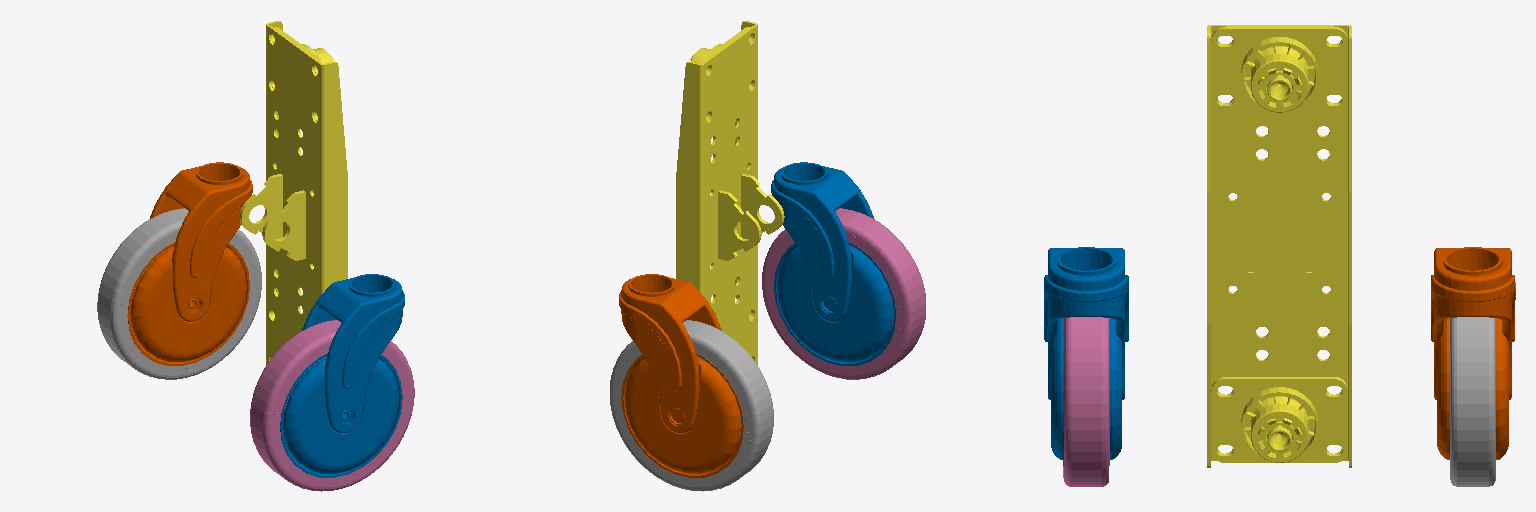
robot.urdf — carter v2:
<?xml version="1.0" encoding="UTF-8"?>
<robot name="carter v2">
   <link name="chassis_link">
      <visual>
         <origin rpy="0 0 0" xyz="0 0 0" />
         <geometry>
            <mesh filename="package://carter v2/meshes/chassis_link.obj" scale="0.01 0.01 0.01"/>
         </geometry>
      </visual>
      <collision>
         <origin rpy="0 0 0" xyz="-0.232 0.000000 0.27" />
         <geometry>
            <box size=".7 .336 .3"/>
         </geometry>
      </collision>
      <inertial>
         <origin rpy="0 0 0" xyz="-0.23.2 0.000000 0.27" />
         <mass value="45.88" />
         <inertia ixx="1.182744" ixy="0.017957" ixz="-0.077476" iyx="0.017957" iyy="0.538664" iyz="0.000018" izx="-0.077476" izy="0.000018" izz="1.240229"/>
      </inertial>
   </link>
   <link name="left_wheel_link">
      <visual>
         <origin rpy="0 0 -1.5707963267948966" xyz="0 0 0" />
         <geometry>
            <mesh filename="package://carter v2/meshes/wheel_link.obj" scale="0.01 0.01 0.01" />
         </geometry>
      </visual>
      <collision>
         <origin rpy="1.5707963267948966 -1.5707963267948966 0" xyz="0 0 0" />
         <geometry>
            <cylinder length = "0.055" radius = "0.1350"/>
         </geometry>
      </collision>
      <inertial>
         <origin rpy="0 0 0" xyz="0 0 0" />
         <mass value="4.195729" />
         <inertia ixx="0.063680" ixy="0.000000" ixz="0.000000" iyx="0.000000" iyy="0.121410" iyz="0.000000" izx="0.000000" izy="0.000000" izz="0.063680"/>
      </inertial>
   </link>
   <link name="right_wheel_link">
      <visual>
         <origin rpy="0 0 -1.5707963267948966" xyz="0 0 0" />
         <geometry>
            <mesh filename="package://carter v2/meshes/wheel_link.obj" scale="0.01 0.01 0.01" />
         </geometry>
         <material name="black"/>
      </visual>
      <collision>
         <origin rpy="-1.5707963267948966 -1.5707963267948966 0" xyz="0 0 0" />
         <geometry>
            <cylinder length = "0.055" radius = "0.1350"/>
         </geometry>
      </collision>
      <inertial>
         <origin rpy="0 0 0" xyz="0 0 0" />
         <mass value="4.195729" />
         <inertia ixx="0.063680" ixy="0.000000" ixz="0.000000" iyx="0.000000" iyy="0.121410" iyz="0.000000" izx="0.000000" izy="0.000000" izz="0.063680"/>
      </inertial>
   </link>
   <link name="rear_pivot_link">
      <visual>
         <origin rpy="1.5707963267948966 -1.5707963267948966 0" xyz="0 0 -0.0275" />
         <geometry>
            <mesh filename="package://carter v2/meshes/back_wheels_link.obj" scale = "0.01 0.01 0.01"/>
         </geometry>
         <material name="black"/>
      </visual>
      <collision>
         <origin rpy="0 0 0" xyz="0 0 -.035" />
         <geometry>
            <box size=".09 .33 .02"/>
         </geometry>
      </collision>
      <inertial>
         <origin rpy="0 0 0" xyz="0 0 -.035" />
         <mass value="0.579519"/>         
      </inertial>
   </link>
   <link name="swivel_left_link">
      <visual>
         <origin rpy="1.5707963267948966 0 3.14159" xyz="0 0 0" />
         <geometry>
            <mesh filename="package://carter v2/meshes/swivel_link.obj" scale = "0.01 0.01 0.01"/>
         </geometry>
      </visual>
      <collision>
         <origin rpy="1.5707963267948966 0 0" xyz="0 0 -0.06" />
         <geometry>
            <box size=".09 .08 .12"/>
         </geometry>
      </collision>
      <inertial>
         <origin rpy="1.5707963267948966 0 0" xyz="0.000000 0.000000 -0.06" />
         <mass value="1.25"/>
      </inertial>
   </link>
   <link name="swivel_right_link">
      <visual>
         <origin rpy="1.5707963267948966 0 3.14159" xyz="0 0 0" />
         <geometry>
            <mesh filename="package://carter v2/meshes/swivel_link.obj" scale = "0.01 0.01 0.01" />
         </geometry>
      </visual>
      <collision>
         <origin rpy="1.5707963267948966 0 0" xyz="0 0 -0.06" />
         <geometry>
            <box size=".09 .08 .12"/>
         </geometry>
      </collision>
      <inertial>
         <origin rpy="1.5707963267948966 0 0" xyz="0.000000 0.000000 -0.06" />
         <mass value="1.25"/>
      </inertial>
   </link>
   <link name="rear_wheel_left_link">
      <visual>
         <origin rpy="0 0 1.5707963267948966" xyz="0 0 0" />
         <geometry>
            <mesh filename="package://carter v2/meshes/caster_wheel_link.obj" scale = "0.01 0.01 0.01"/>
         </geometry>
      </visual>
      <collision>
         <origin rpy="1.5707963267948966 0 0" xyz="0 0 0" />
         <geometry>
            <cylinder length = "0.025" radius = "0.0755"/>
         </geometry>
      </collision>
      <inertial>
         <origin rpy="1.5707963267948966 0 0" xyz="0.000000 0.000000 0.000000" />
         <mass value="0.25"/>
         <inertia ixx="0.02888" ixy="0.000000" ixz="0.000000" iyx="0.000000" iyy="0.02888" iyz="0.000000" izx="0.000000" izy="0.000000" izz="0.02888"/>
      </inertial>
   </link>
   <link name="rear_wheel_right_link">
      <visual>
         <origin rpy="0 0 1.5707963267948966" xyz="0 0 0" />
         <geometry>
            <mesh filename="package://carter v2/meshes/caster_wheel_link.obj" scale = "0.01 0.01 0.01"/>
         </geometry>
      </visual>
      <collision>
         <origin rpy="1.5707963267948966 0 0" xyz="0 0 0" />
         <geometry>
            <cylinder length = "0.025" radius = "0.0755"/>
         </geometry>
      </collision>
      <inertial>
         <origin rpy="1.5707963267948966 0 0" xyz="0.000000 0.000000 0.000000" />
         <mass value="0.25"/>
         <inertia ixx="0.02888" ixy="0.000000" ixz="0.000000" iyx="0.000000" iyy="0.02888" iyz="0.000000" izx="0.000000" izy="0.000000" izz="0.02888"/>
      </inertial>
   </link>

   <joint name="left_wheel" type="continuous">      
      <origin rpy="0 0 0" xyz="0 -0.2066 0.140" />
      <axis xyz="0 1 0" />
      <parent link="chassis_link" />
      <child link="left_wheel_link" />
   </joint>
   <joint name="right_wheel" type="continuous">
      <origin rpy="0 0 0" xyz="0 0.2066 0.140" />
      <axis xyz="0 1 0" />
      <parent link="chassis_link" />
      <child link="right_wheel_link" />
   </joint>
   <joint name="rear_pivot" type="revolute">
      <origin rpy="0 0 0" xyz="-0.4735 0 0.2228921" />
      <axis xyz="1 0 0" />
      <limit upper="0.0872665" lower="-0.0872665" />
      <parent link="chassis_link" />
      <child link="rear_pivot_link" />
   </joint>
   <joint name="rear_swivel_right" type="continuous">
      <origin rpy="0 0 0" xyz="0 -0.13225 -0.04527" />
      <axis xyz="0 0 1" />
      <parent link="rear_pivot_link" />
      <child link="swivel_left_link" />
   </joint>
   <joint name="rear_swivel_left" type="continuous">
      <origin rpy="0 0 0" xyz="0 0.13225 -0.04527" />
      <axis xyz="0 0 1" />
      <parent link="rear_pivot_link" />
      <child link="swivel_right_link" />
   </joint>
   <joint name="rear_axle_left" type="continuous">
      <origin rpy="0 0 0" xyz="-.04 0 -.101315" />
      <axis xyz="0 1 0" />
      <parent link="swivel_left_link" />
      <child link="rear_wheel_left_link" />
   </joint>
   <joint name="rear_axle_right" type="continuous">
      <origin rpy="0 0 0" xyz="-.04 0 -.101315" />
      <axis xyz="0 1 0" />
      <parent link="swivel_right_link" />
      <child link="rear_wheel_right_link" />
   </joint>
</robot>

--- What the picture shows (computed from the rendered views, not written in the file) ---
The picture shows the robot from 3 angles, left to right: view 1: azimuth 30°, elevation 25°; view 2: azimuth 150°, elevation 25°; view 3: azimuth 270°, elevation 25°; orthographic projection.
Model carter v2 with 8 links and 7 joints (1 revolute, 6 continuous), rooted at chassis_link, posed all joints at 0.
Visible links, largest first — view 1: rear_pivot_link, swivel_left_link, swivel_right_link, rear_wheel_right_link, rear_wheel_left_link; view 2: rear_pivot_link, swivel_right_link, swivel_left_link, rear_wheel_left_link, rear_wheel_right_link; view 3: rear_pivot_link, swivel_right_link, swivel_left_link, rear_wheel_left_link, rear_wheel_right_link.
Link boxes in pixels (left/top/right/bottom): rear_pivot_link: left=240, top=21, right=347, bottom=364; swivel_left_link: left=280, top=274, right=404, bottom=477; swivel_right_link: left=127, top=162, right=252, bottom=365; rear_wheel_right_link: left=97, top=208, right=261, bottom=379; rear_wheel_left_link: left=250, top=320, right=414, bottom=491; rear_pivot_link: left=676, top=21, right=784, bottom=364; swivel_right_link: left=619, top=274, right=743, bottom=477; swivel_left_link: left=771, top=162, right=896, bottom=365; rear_wheel_left_link: left=762, top=208, right=925, bottom=379; rear_wheel_right_link: left=610, top=320, right=773, bottom=491; rear_pivot_link: left=1207, top=25, right=1351, bottom=467; swivel_right_link: left=1431, top=247, right=1515, bottom=459; swivel_left_link: left=1044, top=247, right=1128, bottom=465; rear_wheel_left_link: left=1063, top=317, right=1109, bottom=486; rear_wheel_right_link: left=1450, top=317, right=1495, bottom=486.
Size in the robot's own frame: 0.1514 by 0.3224 by 0.3588 metres.
Meshes: 5 distinct files referenced, 5 mesh visuals loaded (3 OBJ); not drawn: 3 (reference not matched to a file when rendering).
